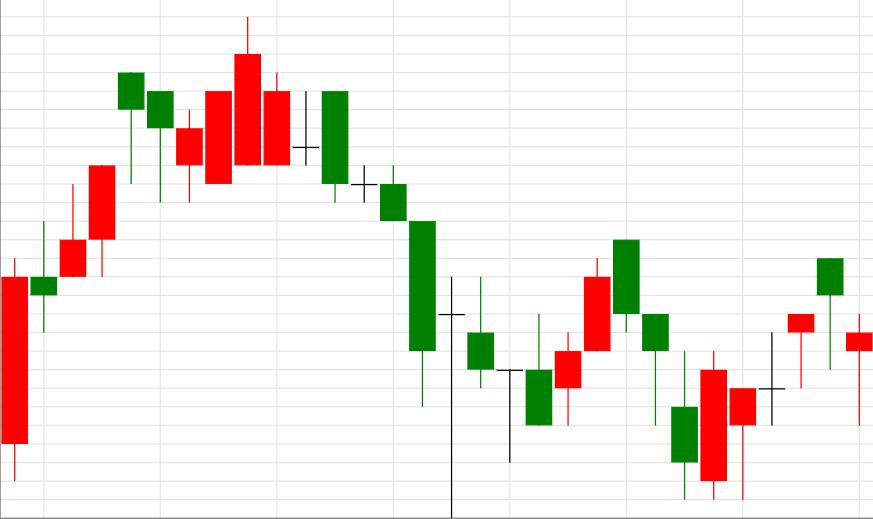hanging_man_fall: (2, 72, 145, 481), (730, 258, 843, 502)
